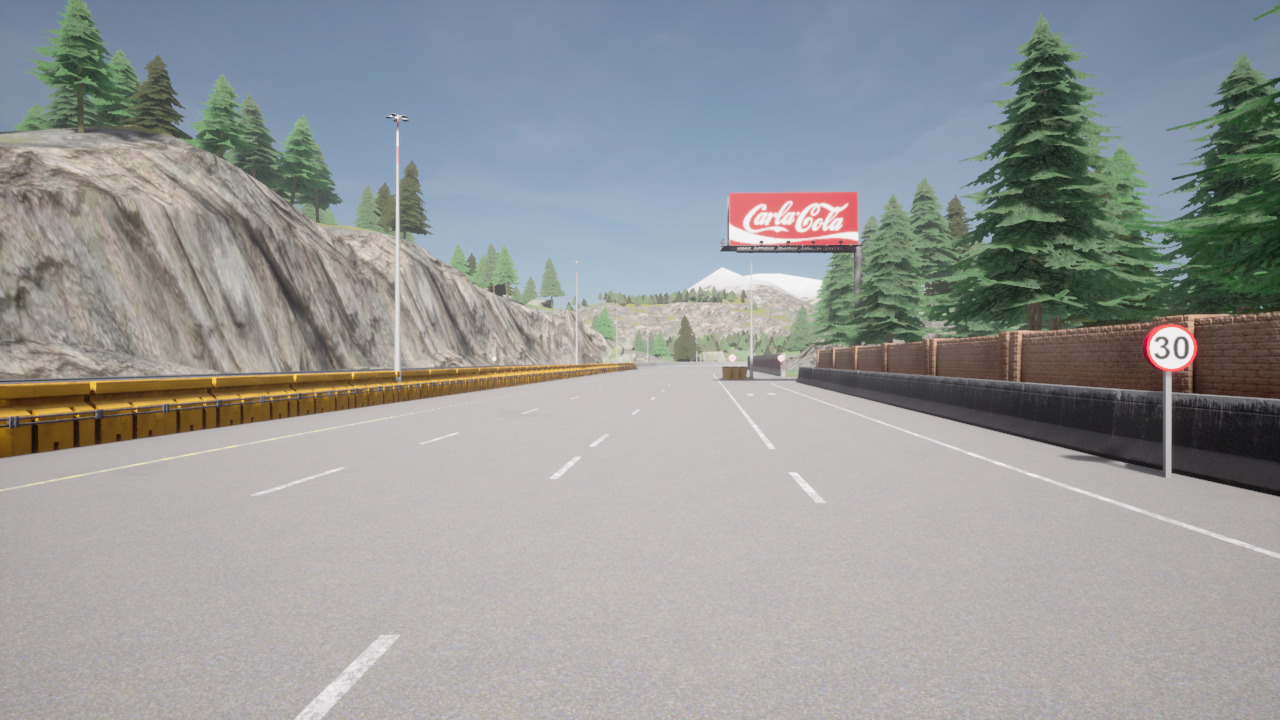sl30: (1141, 322, 1200, 374)
